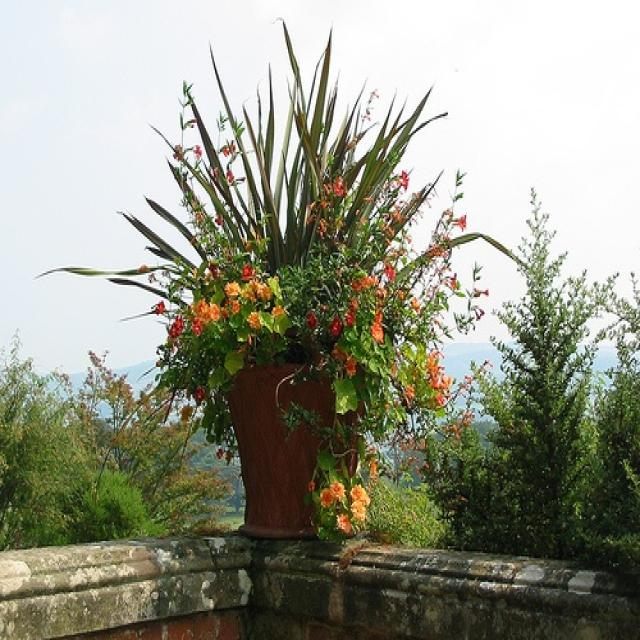pottedplant: (29, 12, 486, 543)
